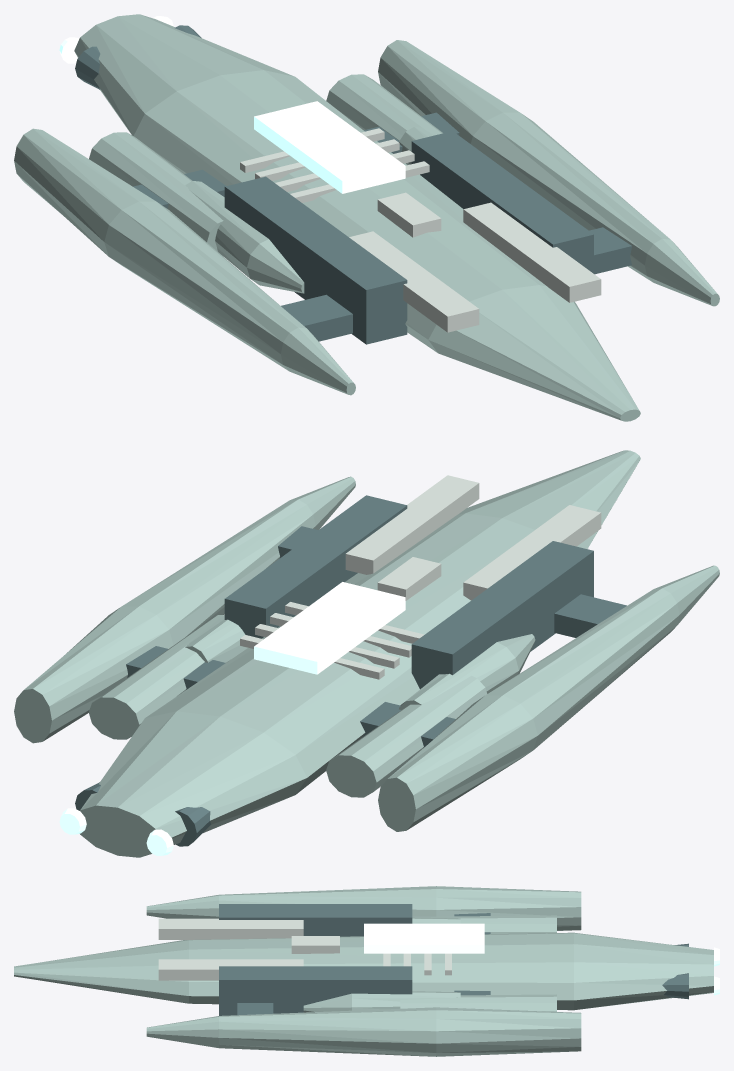
3 renders of one model, top to bottom at view 1: azimuth 30°, elevation 25°; view 2: azimuth 150°, elevation 25°; view 3: azimuth 270°, elevation 25°, orthographic. The views are drawn at different scales.
Size of the model in its own units: 5.1 by 1.06 by 10.53.
